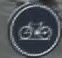bike lane: (2, 4, 60, 52)
